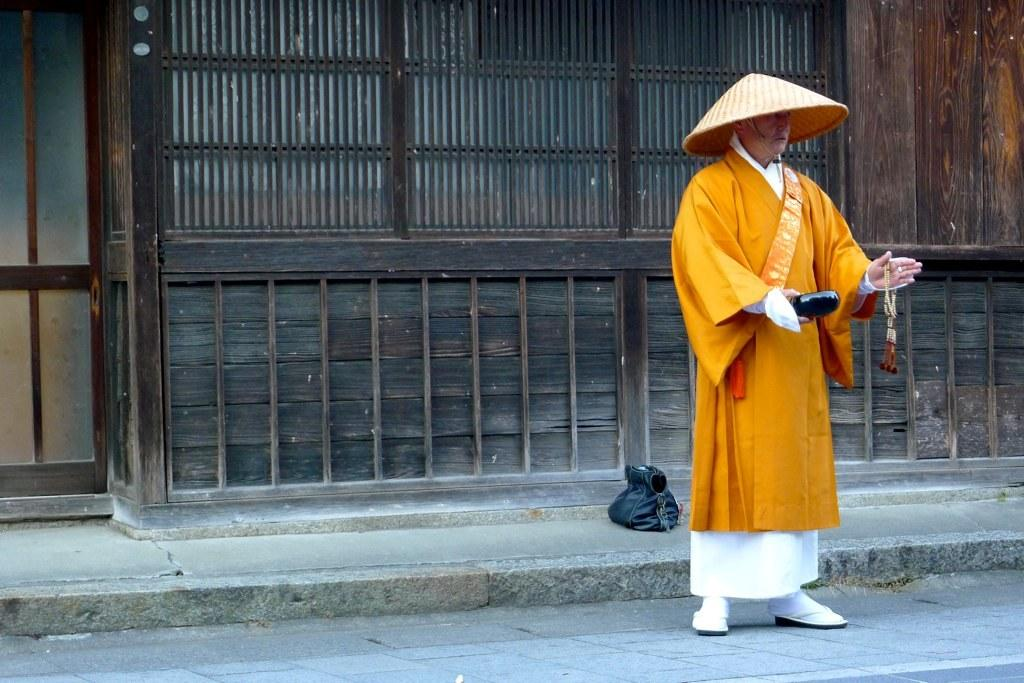Hat: (681, 70, 851, 160)
